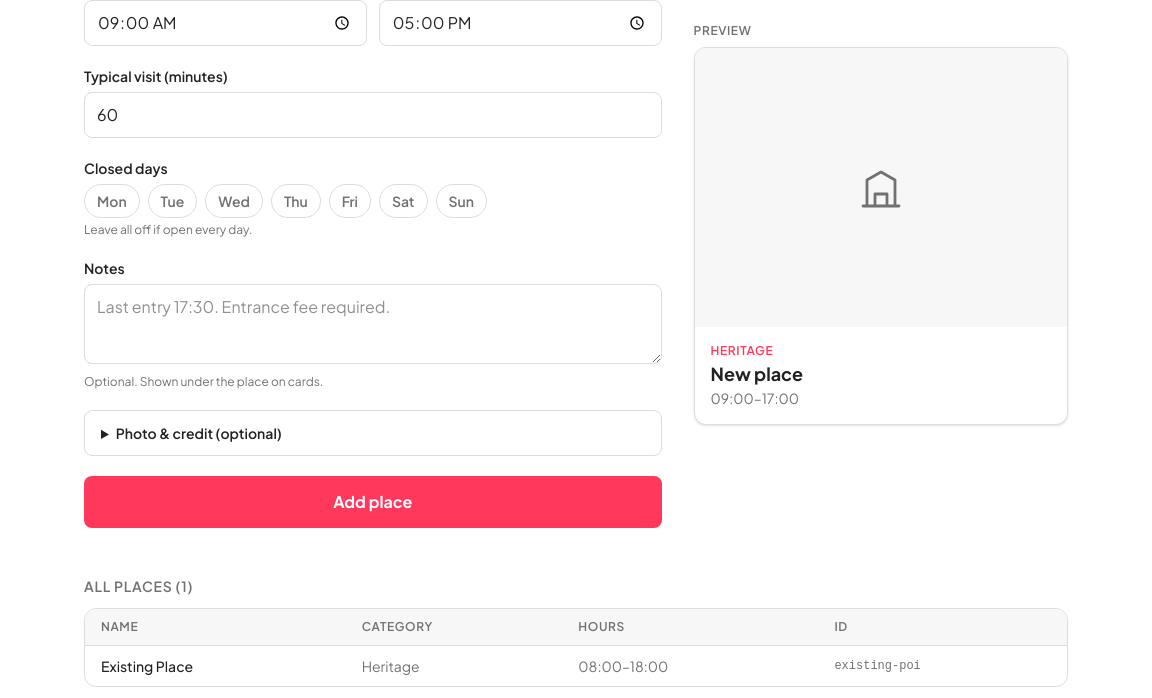
Test case: AdminDashboard › blocks submission client-side and shows field errors when required fields are missing
The image size is (1152, 698).
(page scrolled)
Click the button "Add place" at x=373, y=502, box [84,476,662,528]
(page scrolled)
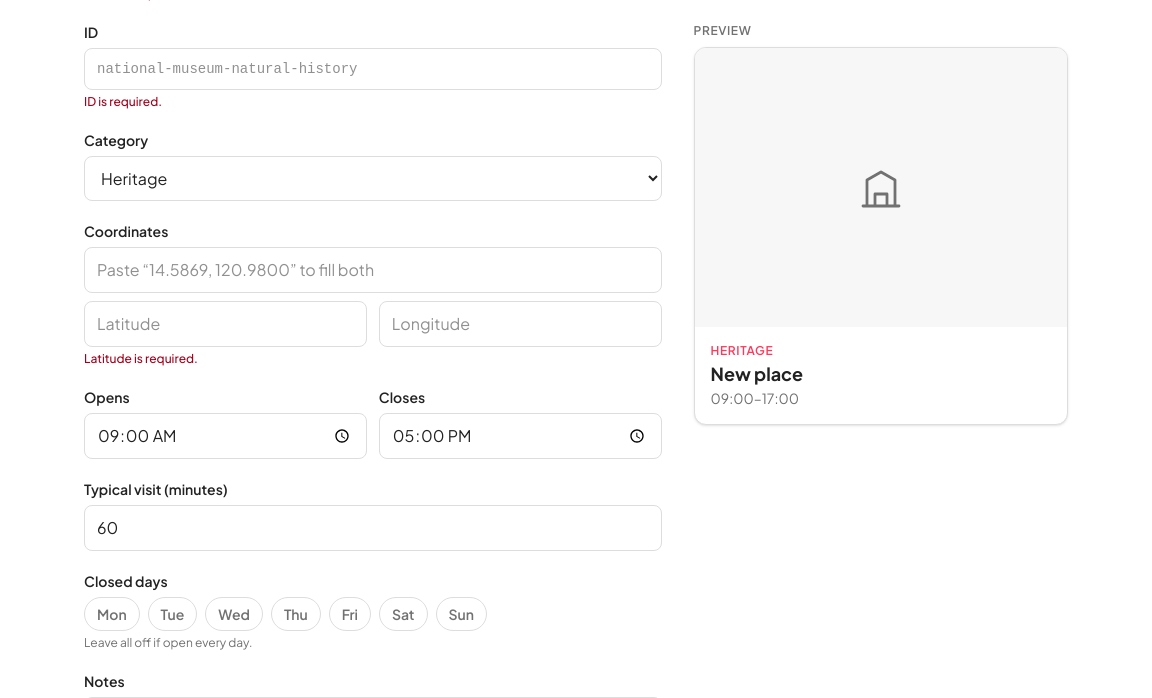
Expected: the text "Latitude is required." is shown, [84,351,198,366]
